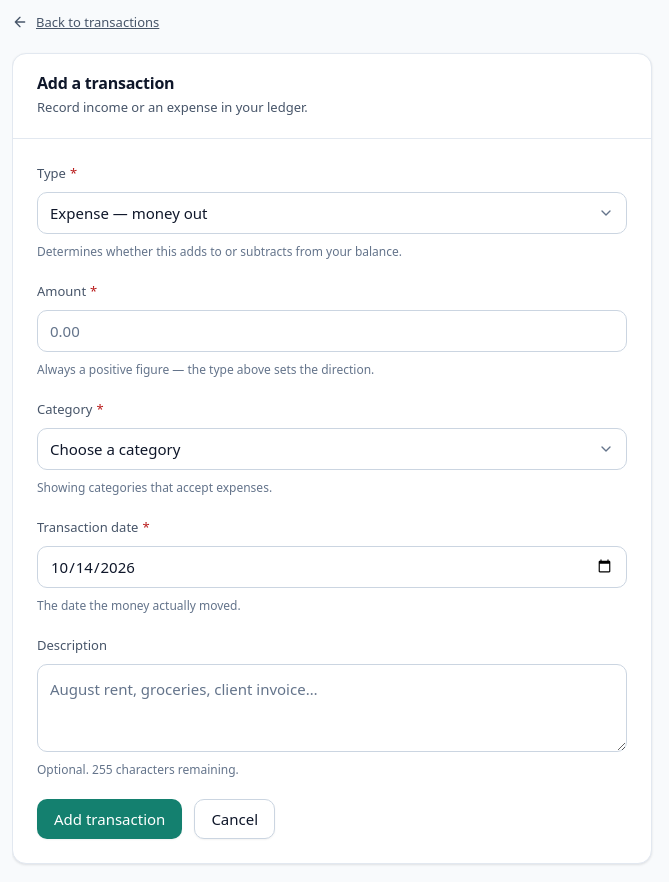
Test: TransactionFormPage › rejects a future transaction date
Type "100" into the number field labelled "Amount *". click: (332, 331)
box: x1=37 y1=310 x2=627 y2=352
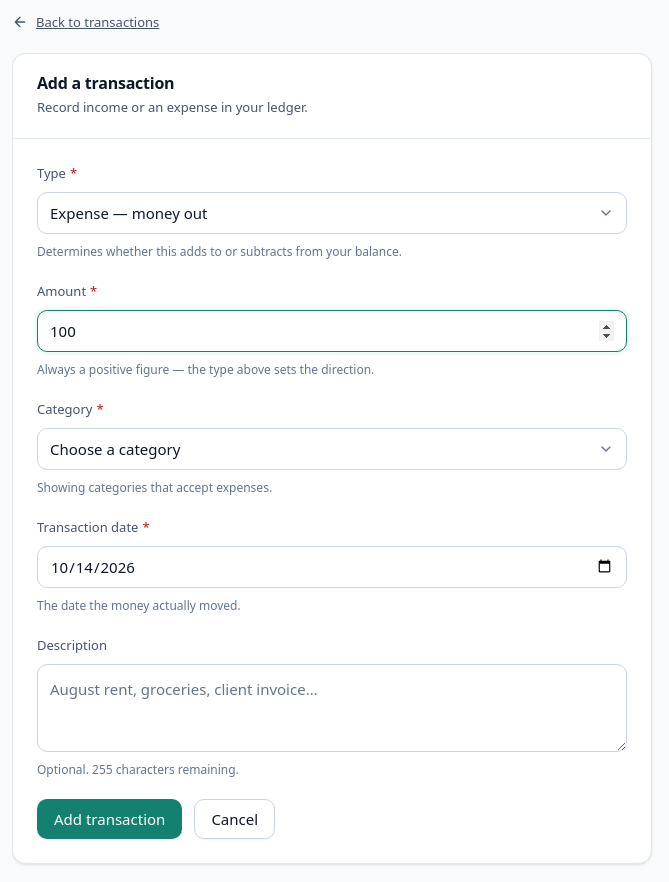
Select "Rent" in the dropdown labelled "Category *". click: (332, 448)
box: x1=37 y1=428 x2=627 y2=470
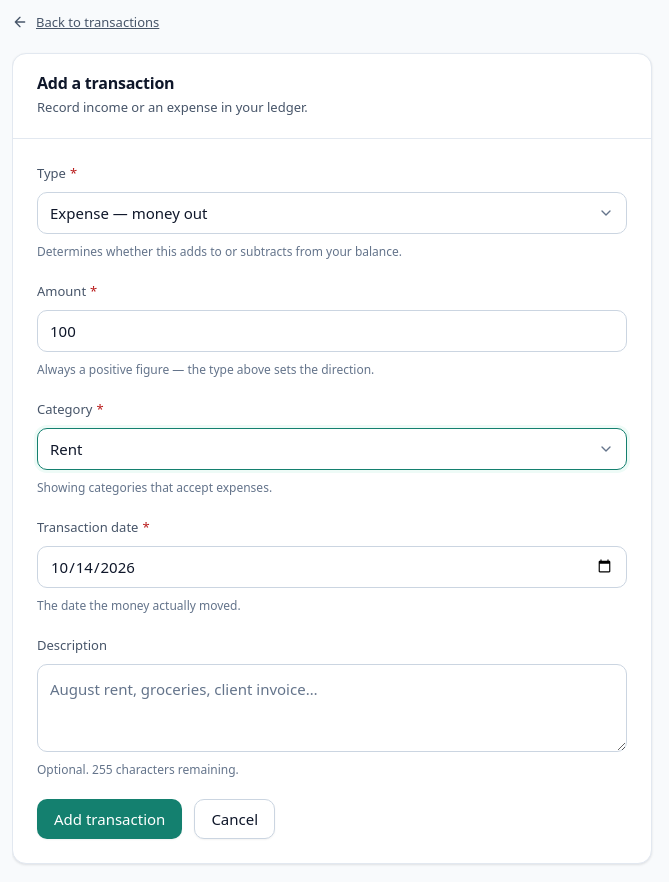
Type "2099-01-01" into the date field labelled "Transaction date *". click: (332, 566)
box: x1=37 y1=546 x2=627 y2=588
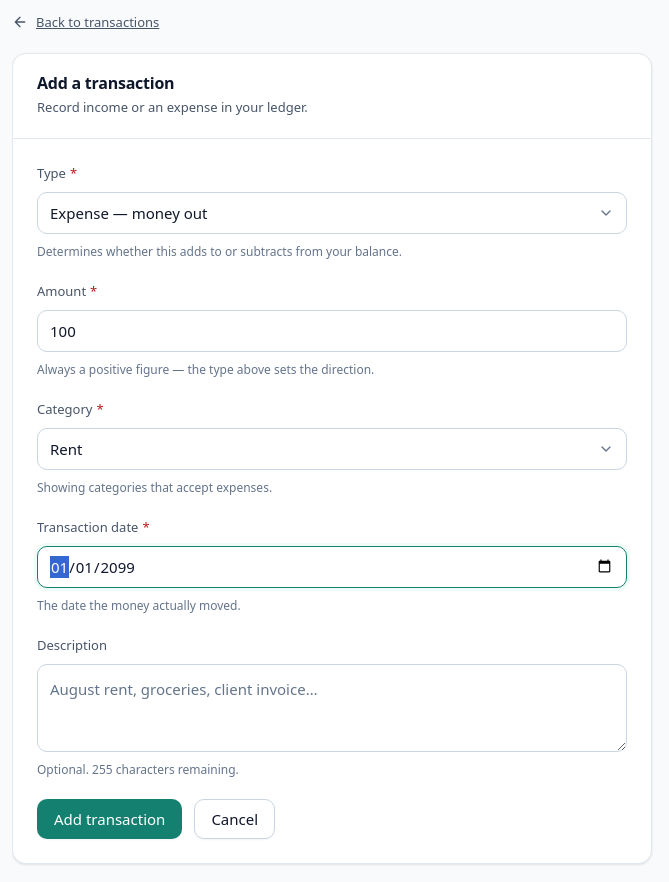
Click the button "Add transaction". click: click(110, 819)
box: x1=37 y1=799 x2=182 y2=839
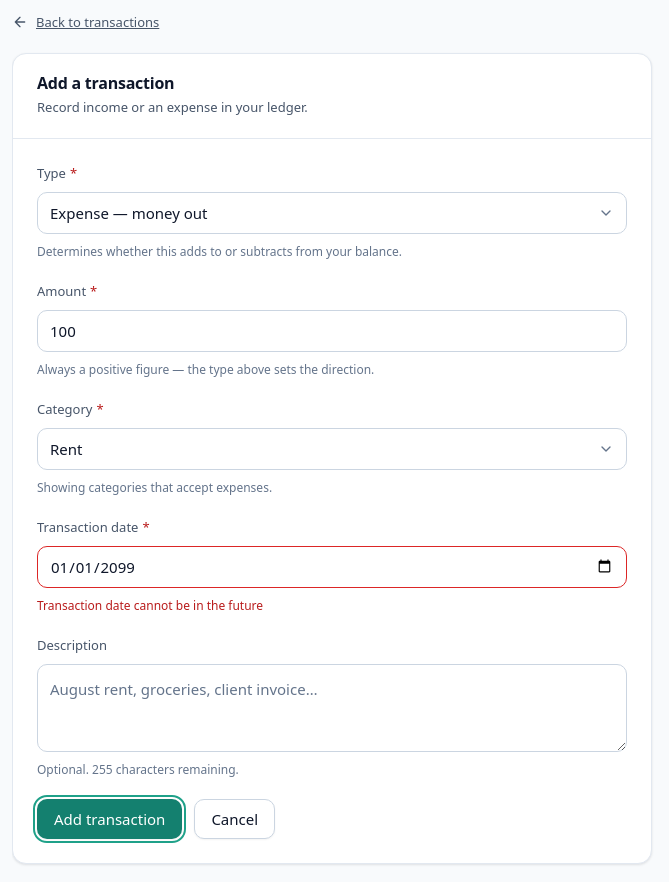
Expected: the text "Transaction date cannot be in the future" is shown, x1=37 y1=596 x2=263 y2=614
